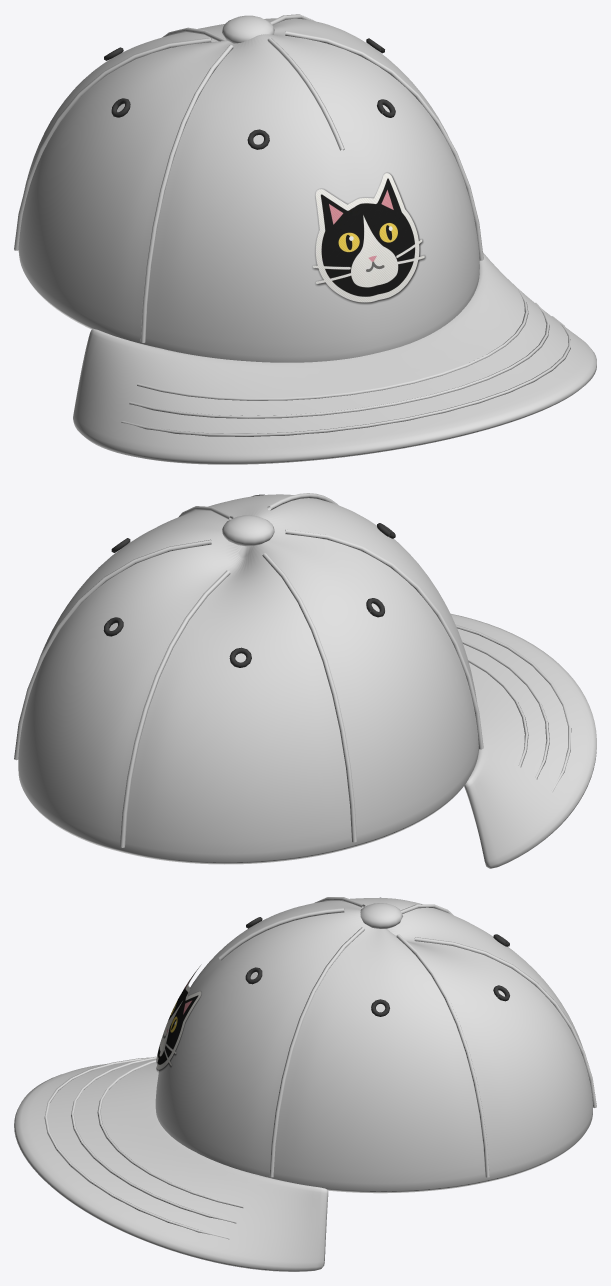
File: merch-cap.glb
3 views of the same model, one above another, from view 1: azimuth 30°, elevation 25°; view 2: azimuth 150°, elevation 25°; view 3: azimuth 270°, elevation 25° (orthographic). The views are drawn at different scales.
Visible parts, largest first — view 1: Fabric, Embroidery, Thread; view 2: Fabric, Thread; view 3: Fabric, Embroidery, Thread.
Part boxes in pixels (x1,y1,x2,y2): Fabric: (14, 14, 596, 464); Embroidery: (312, 173, 425, 304); Thread: (104, 38, 395, 149); Fabric: (14, 493, 596, 868); Thread: (103, 494, 395, 667); Fabric: (14, 897, 596, 1271); Embroidery: (156, 964, 201, 1071); Thread: (245, 897, 509, 1016).
Size of the model in its own units: 0.2201 by 0.148 by 0.2829.
3 materials, 1 textured.
